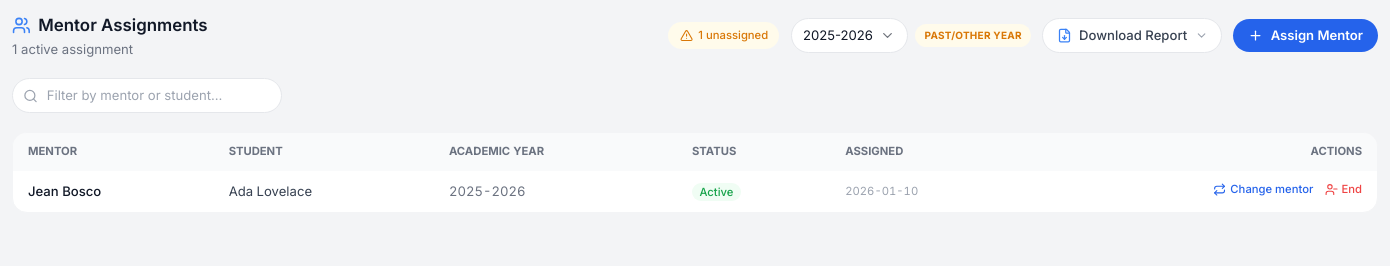
Test: AdminMentorAssignments › filters the assignment table
expect the text "Ada Lovelace" is shown: met, box [214,171,434,212]
Type "zzz" into the field named "Filter assignments" at (147,96), box [12,78,282,113]
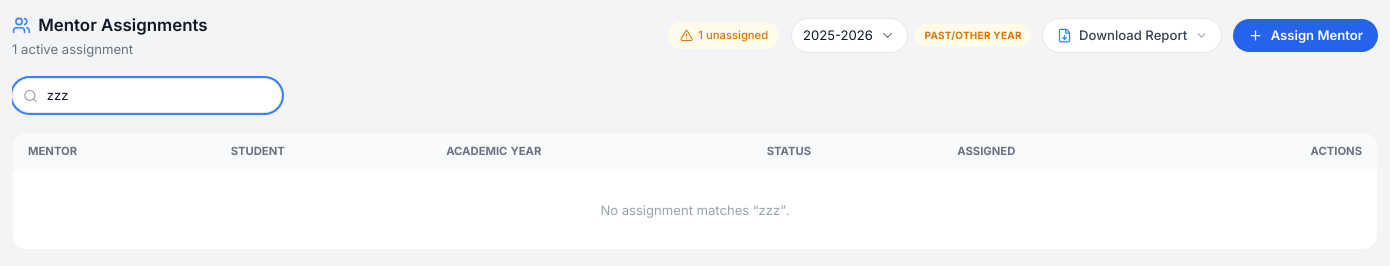
expect the text "Ada Lovelace" is gone: met
expect the text "No assignment matches “zzz”." is shown: met, box [13,171,1377,249]
